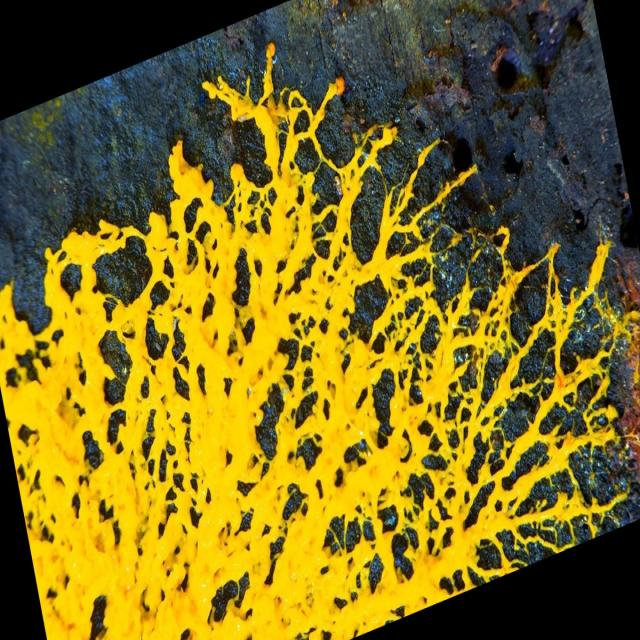Dog_vomit_slime_mold: (2, 35, 637, 637)
